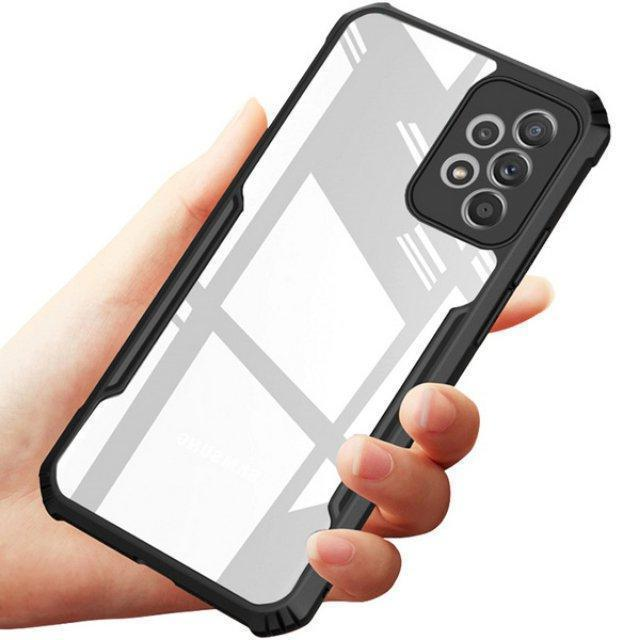mobile: (35, 1, 619, 633)
